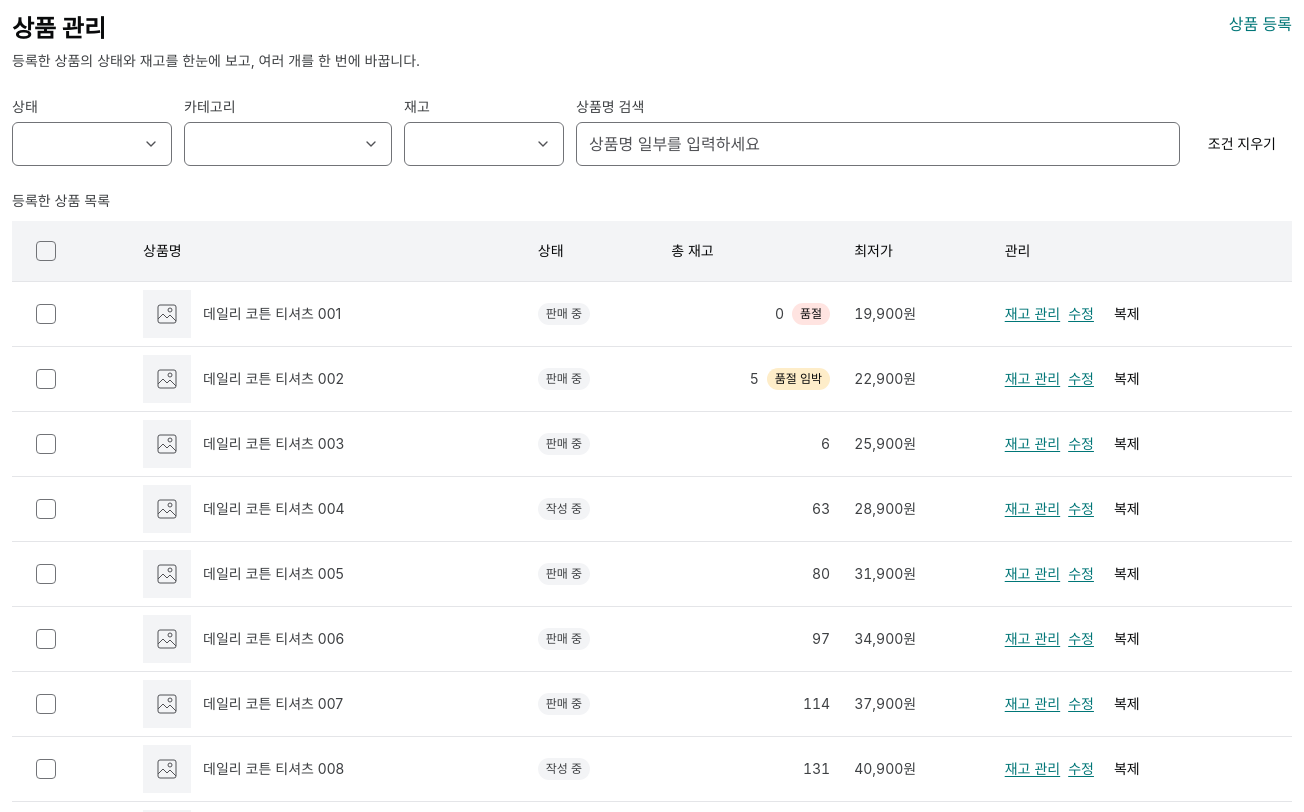
Test: U1 · P5 — the four states › tells an empty result from an empty store
In the search field labelled "상품명 검색": (878, 144) [576, 122, 1180, 166], type "없는상품명"
Then press Enter
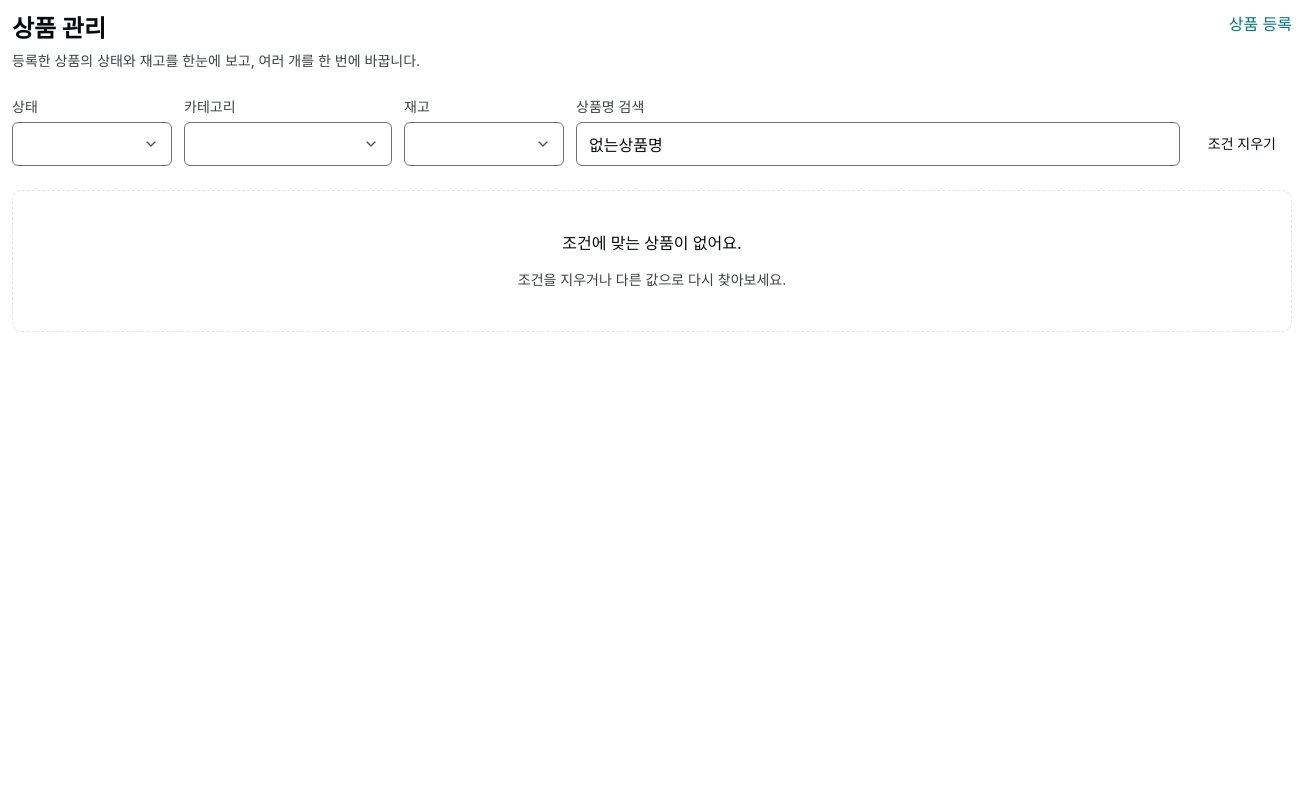
Check: the text "조건에 맞는 상품이 없어요." is shown, box [562, 231, 742, 257]
